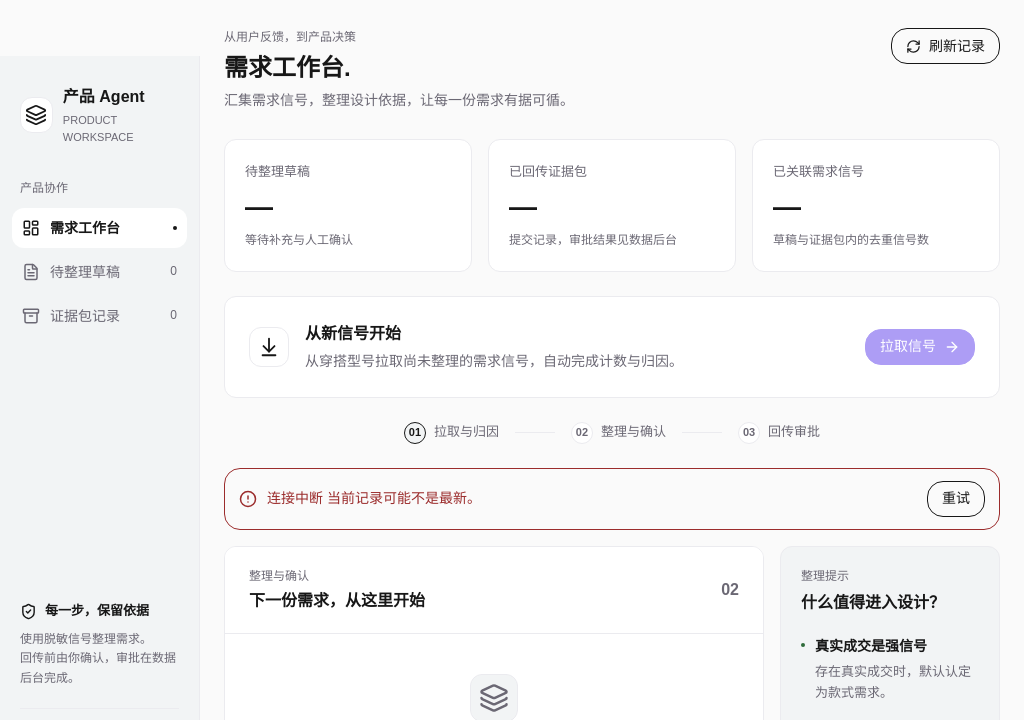
it: workspace states › provides retry and recovers after backend unavailability
The image size is (1024, 720).
Check: the message shows "连接中断", box [267,490,323,506]
Check: the button "拉取信号" is disabled, box [865,328,975,364]
What coordinates should you click on to do the following:
click the button "重试"
I would click on:
 (956, 498)
Its box is [927,480,985,516].
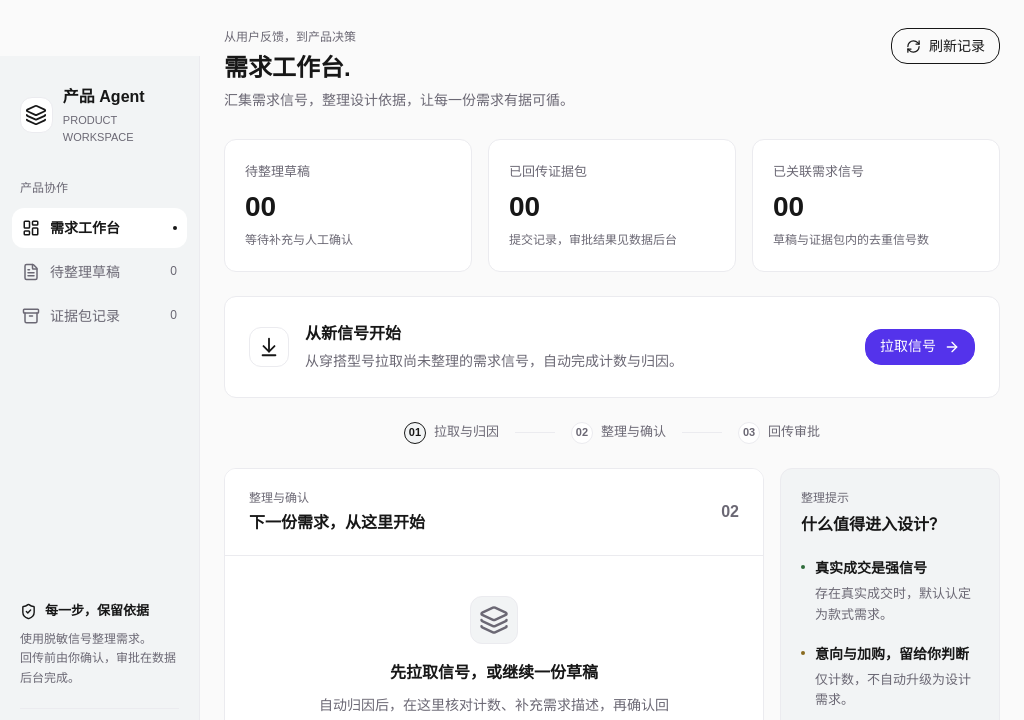
Check: the message "连接中断 当前记录可能不是最新。 重试" is gone
Check: the button "拉取信号" is enabled, box [865,328,975,364]
